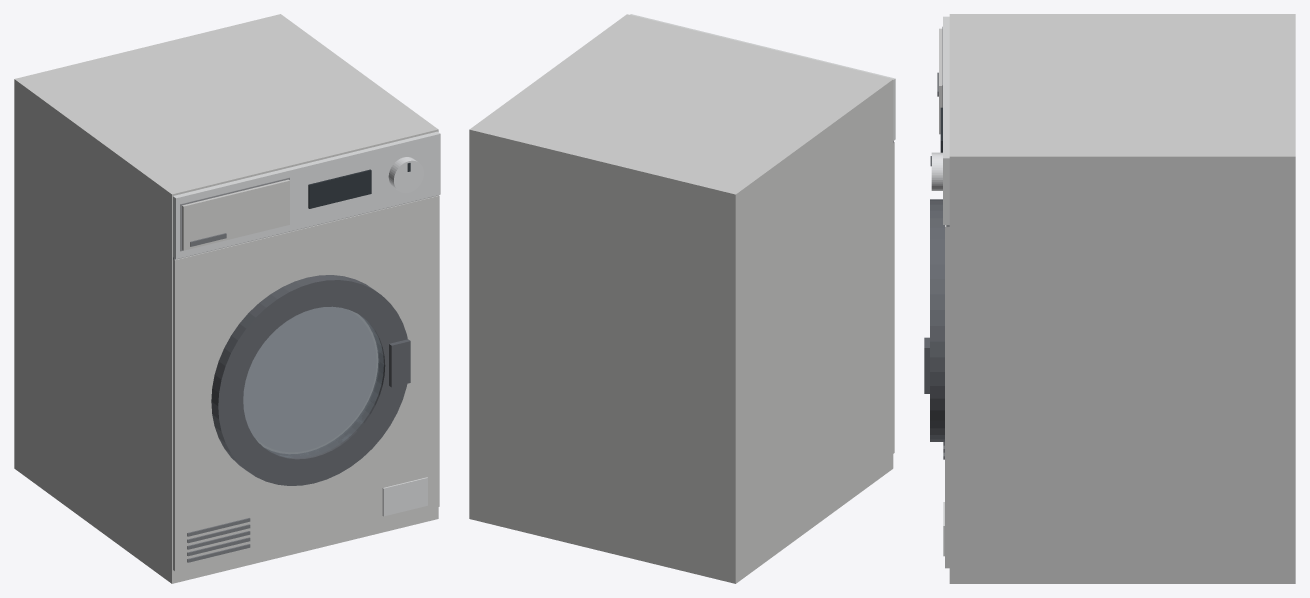
File: trockner.glb
The picture shows the model from 3 angles, left to right: view 1: azimuth 30°, elevation 25°; view 2: azimuth 150°, elevation 25°; view 3: azimuth 270°, elevation 25°; orthographic projection. The views are drawn at different scales.
Visible parts, largest first — view 1: Gehäuse, Türring, Glas, Trommel, Bedienblende, Graphit, Display, Chrom, Fuge; view 2: Gehäuse, Bedienblende; view 3: Gehäuse, Türring, Bedienblende.
Boxes of the visible parts, x1=… form: Gehäuse: x1=14, y1=14, x2=439, y2=583; Türring: x1=211, y1=275, x2=410, y2=485; Glas: x1=243, y1=306, x2=383, y2=457; Trommel: x1=243, y1=307, x2=376, y2=451; Bedienblende: x1=173, y1=131, x2=440, y2=516; Graphit: x1=187, y1=233, x2=250, y2=562; Display: x1=308, y1=163, x2=410, y2=208; Chrom: x1=388, y1=157, x2=423, y2=193; Fuge: x1=173, y1=177, x2=438, y2=259; Gehäuse: x1=469, y1=14, x2=894, y2=583; Bedienblende: x1=630, y1=14, x2=895, y2=140; Gehäuse: x1=939, y1=14, x2=1295, y2=583; Türring: x1=924, y1=199, x2=944, y2=441; Bedienblende: x1=943, y1=16, x2=949, y2=556.
Bounding box in the file's own units: 0.6 × 0.85 × 0.66.
